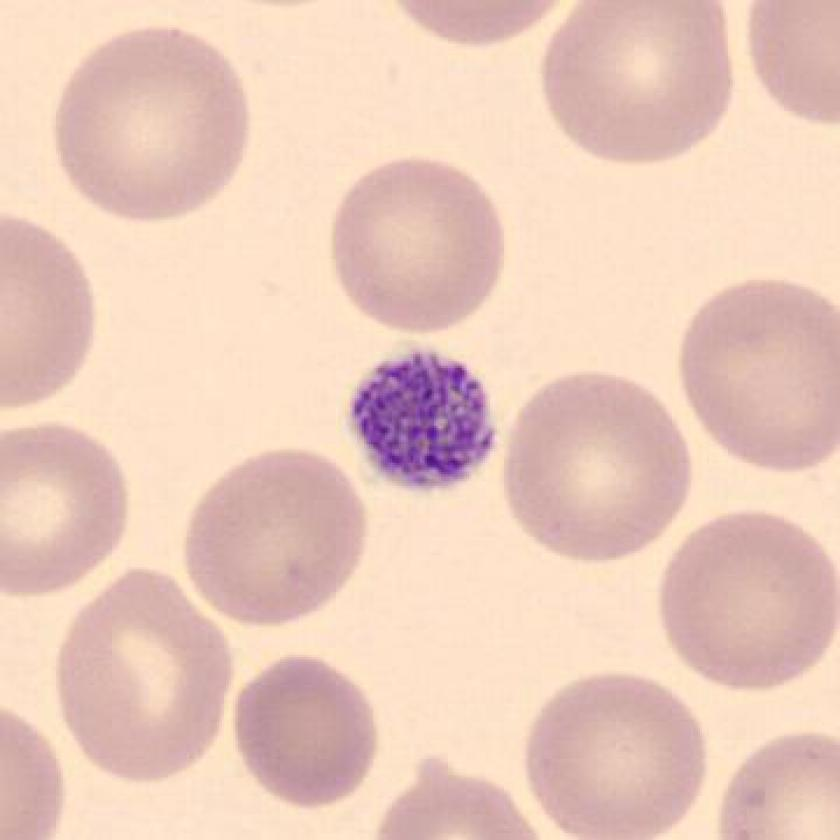platelets: (335, 334, 510, 503)
